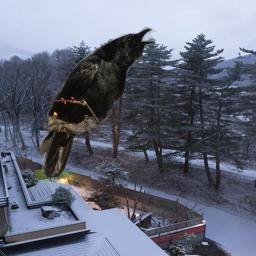Crow: (37, 25, 157, 177)
